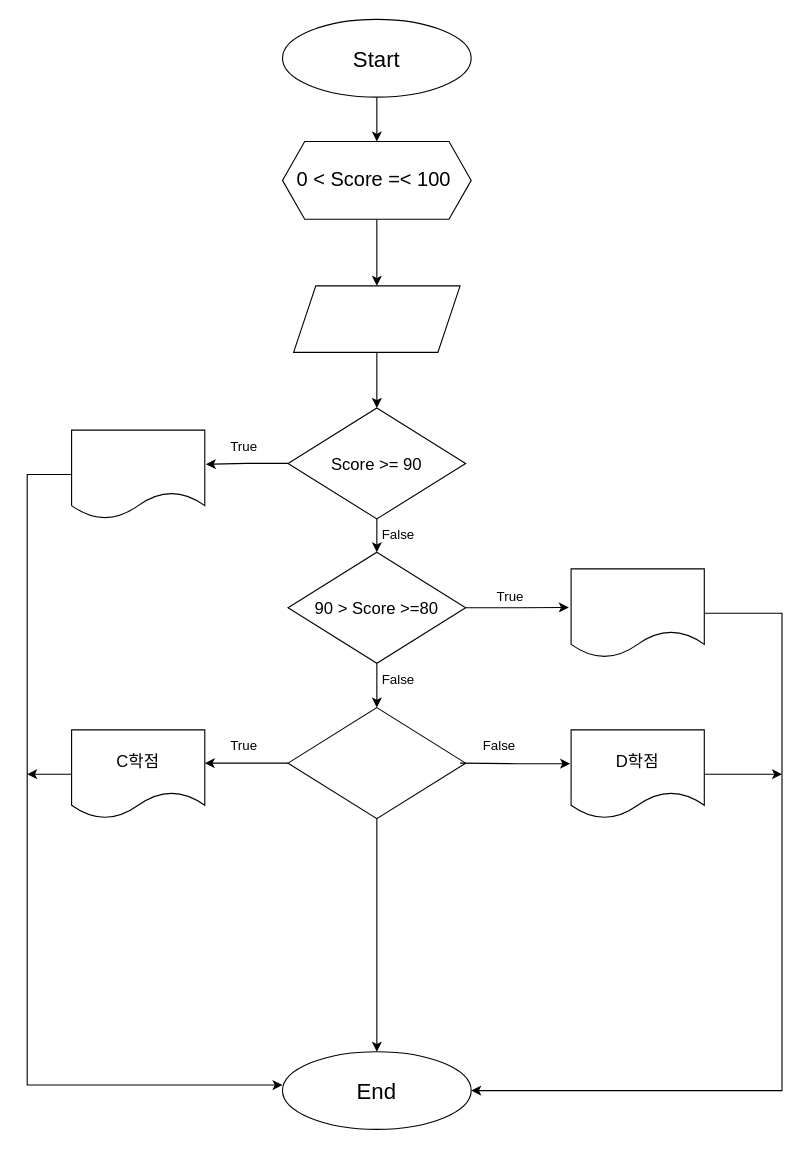
The diagram is 810 pixels wide and 1149 high, and some of its shapes have lost their labels. The shapes that lost their labels are listed below. From the top down, each one's centre as x and y in pixels, then its label:
At pixel 376 318: "Read score".
At pixel 137 474: "A학점".
At pixel 637 613: "B학점".
At pixel 376 763: "80 > Score >=70".
